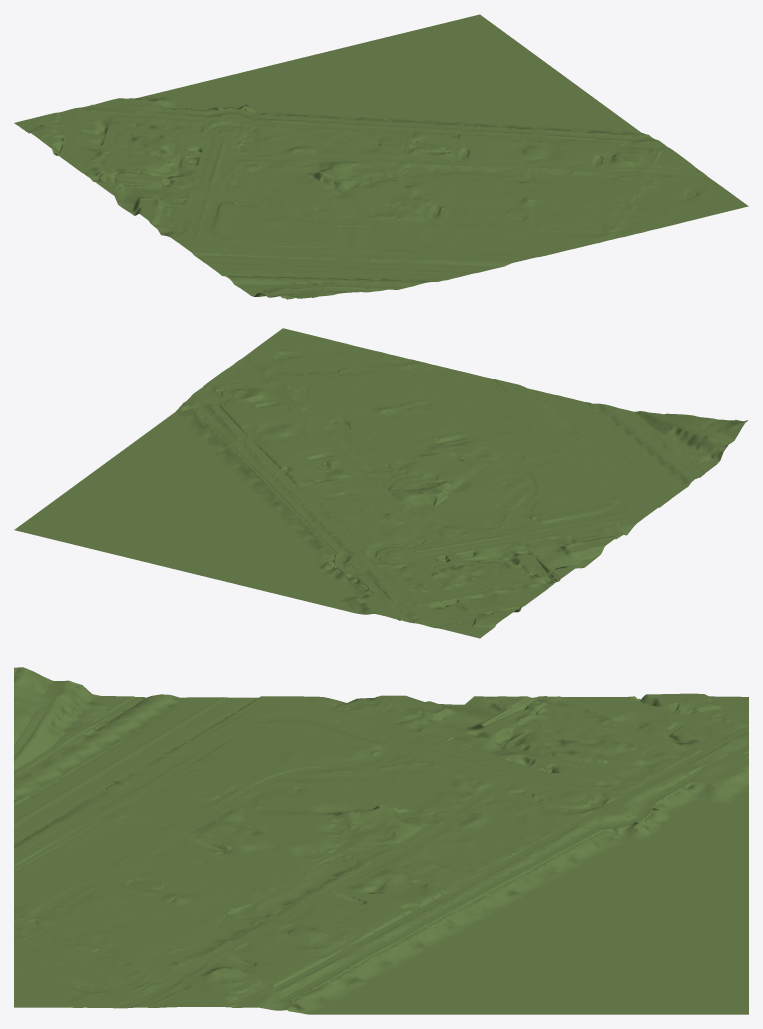
Rendered from terrain_3_2.glb.
3 views of the same model, one above another, from view 1: azimuth 30°, elevation 25°; view 2: azimuth 150°, elevation 25°; view 3: azimuth 270°, elevation 25° (orthographic). The views are drawn at different scales.
Visible parts, largest first — view 1: terrain_3_2; view 2: terrain_3_2; view 3: terrain_3_2.
Boxes of the visible parts, <box> form: terrain_3_2: <box>14,14,748,299</box>; terrain_3_2: <box>14,328,748,638</box>; terrain_3_2: <box>14,667,748,1014</box>.
Bounding box in the file's own units: 600 × 33.9 × 600.
